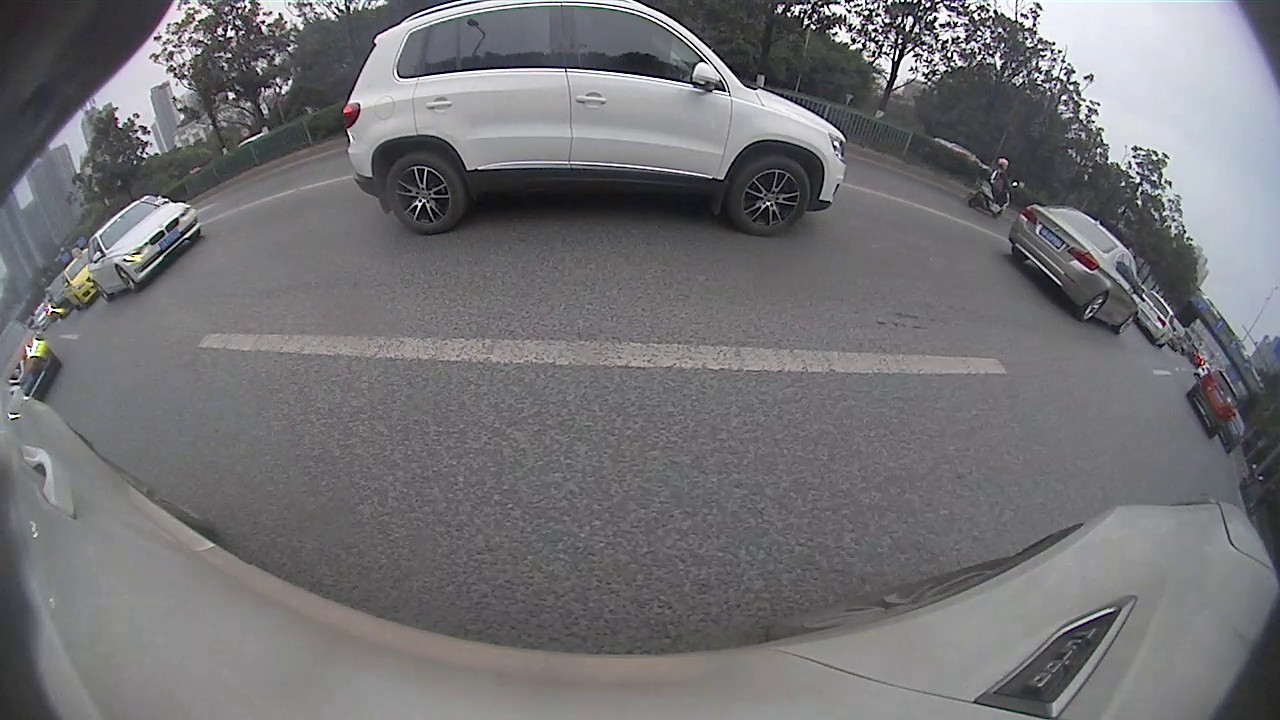car: (341, 0, 848, 236), (1008, 202, 1140, 335), (86, 197, 203, 301), (2, 316, 59, 401), (1186, 367, 1242, 442), (57, 247, 99, 313), (1136, 289, 1178, 349)
front: (725, 155, 812, 236), (116, 264, 143, 294), (1116, 315, 1137, 336)
rear: (385, 152, 466, 235), (1079, 292, 1108, 325)
